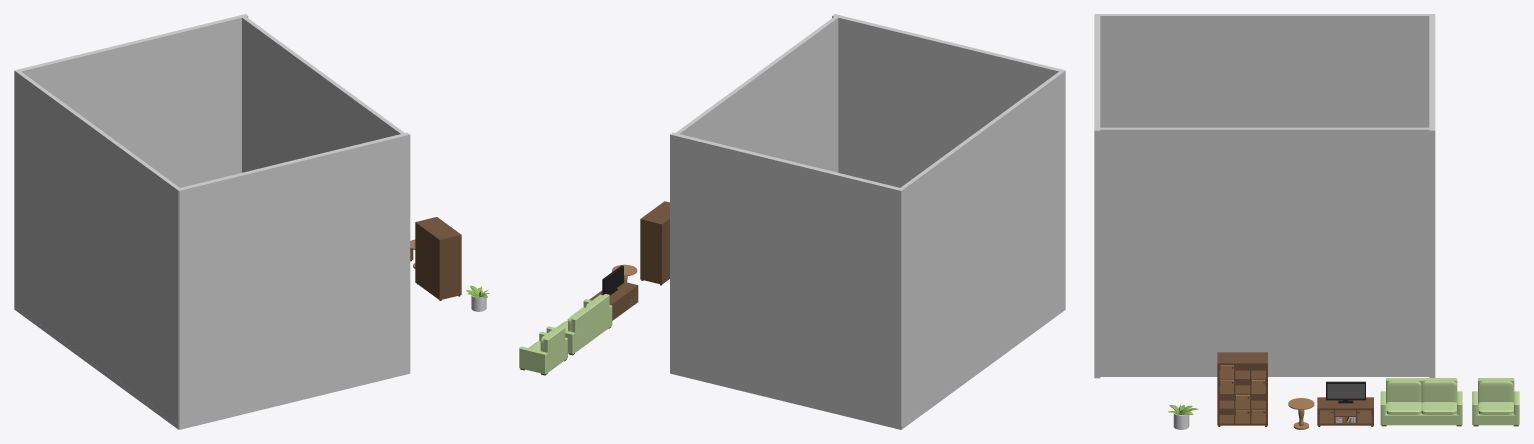
Rendered from salon.fbx.
The picture shows the model from 3 angles, left to right: view 1: azimuth 30°, elevation 25°; view 2: azimuth 150°, elevation 25°; view 3: azimuth 270°, elevation 25°; orthographic projection. The views are drawn at different scales.
Visible parts, largest first — view 1: Cube.034, Cube.033, Cube.022, Cube.035; view 2: Cube.034, Cube.033, Cube.022, Cube.017, Cube, Cube.035, Cube.005; view 3: Cube.033, Cube.034, Cube.022, Cube.017, Cube.019, Cube, Cube.005, Cube.018, Cube.016, Cube.002, Cube.001.
Boxes of the visible parts, x1,y1,x2,y2 form: Cube.034: (15, 14, 410, 429); Cube.033: (14, 16, 407, 428); Cube.022: (415, 217, 461, 300); Cube.035: (14, 305, 178, 429); Cube.034: (670, 14, 1065, 429); Cube.033: (676, 15, 1065, 429); Cube.022: (640, 201, 669, 284); Cube.017: (546, 294, 612, 354); Cube: (519, 326, 567, 374); Cube.035: (901, 306, 1065, 429); Cube.005: (589, 282, 638, 320); Cube.033: (1095, 14, 1434, 376); Cube.034: (1094, 14, 1435, 378); Cube.022: (1217, 352, 1267, 425); Cube.017: (1380, 378, 1462, 425); Cube.019: (1386, 381, 1456, 402); Cube: (1472, 378, 1519, 425); Cube.005: (1317, 397, 1373, 425); Cube.018: (1386, 402, 1456, 414); Cube.016: (1326, 381, 1365, 400); Cube.002: (1478, 381, 1513, 402); Cube.001: (1478, 402, 1513, 414).
Size of the model in its own units: 3239 by 2099 by 3271.
